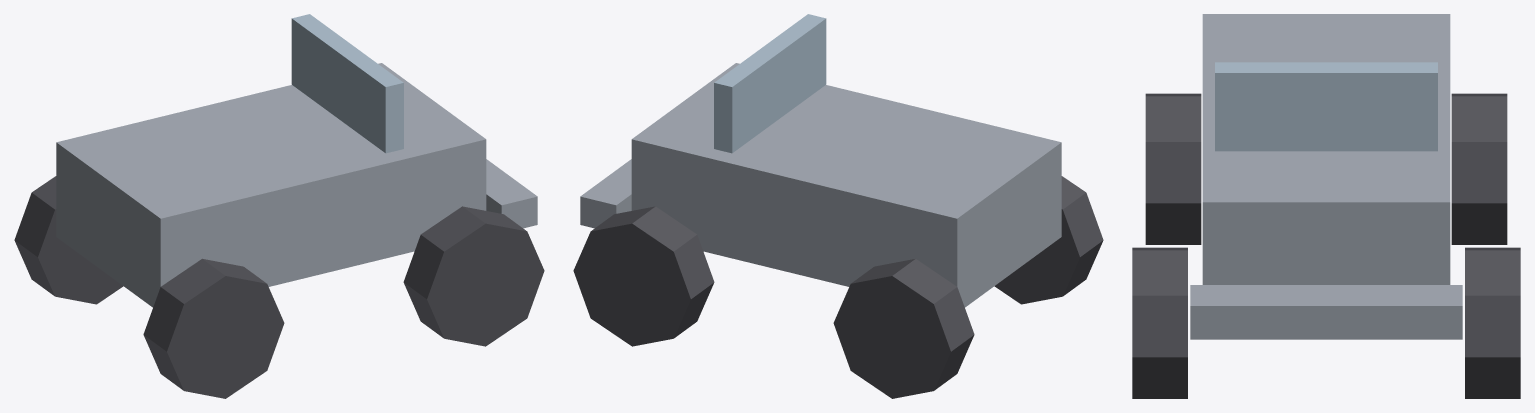
3 views of the same model, side by side, from view 1: azimuth 30°, elevation 25°; view 2: azimuth 150°, elevation 25°; view 3: azimuth 270°, elevation 25° (orthographic). The views are drawn at different scales.
Visible parts, largest first — view 1: part0, part6, part4, part1, part5, part2; view 2: part0, part5, part3, part1, part6, part2; view 3: part0, part1, part2, part5, part6, part3, part4.
Boxes of the visible parts, x1,y1,x2,y2 form: part0: (56, 63, 486, 307); part6: (143, 258, 284, 398); part4: (403, 206, 544, 346); part1: (291, 14, 403, 153); part5: (14, 176, 123, 304); part2: (486, 159, 537, 228); part0: (631, 63, 1061, 307); part5: (833, 258, 974, 398); part3: (573, 206, 714, 346); part1: (714, 14, 826, 153); part6: (994, 176, 1103, 304); part2: (580, 159, 631, 228); part0: (1202, 14, 1450, 284); part1: (1215, 62, 1437, 151); part2: (1190, 285, 1462, 339); part5: (1451, 93, 1507, 244); part6: (1145, 93, 1201, 244); part3: (1465, 247, 1520, 398); part4: (1132, 247, 1187, 398).
Size of the model in its own units: 4.31 by 2.64 by 3.14.
